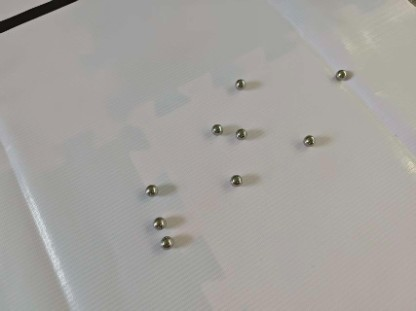ironball: (152, 216, 165, 228), (144, 183, 157, 195), (159, 236, 171, 248), (235, 127, 246, 139), (230, 174, 241, 185), (303, 134, 313, 146), (212, 122, 222, 133)
